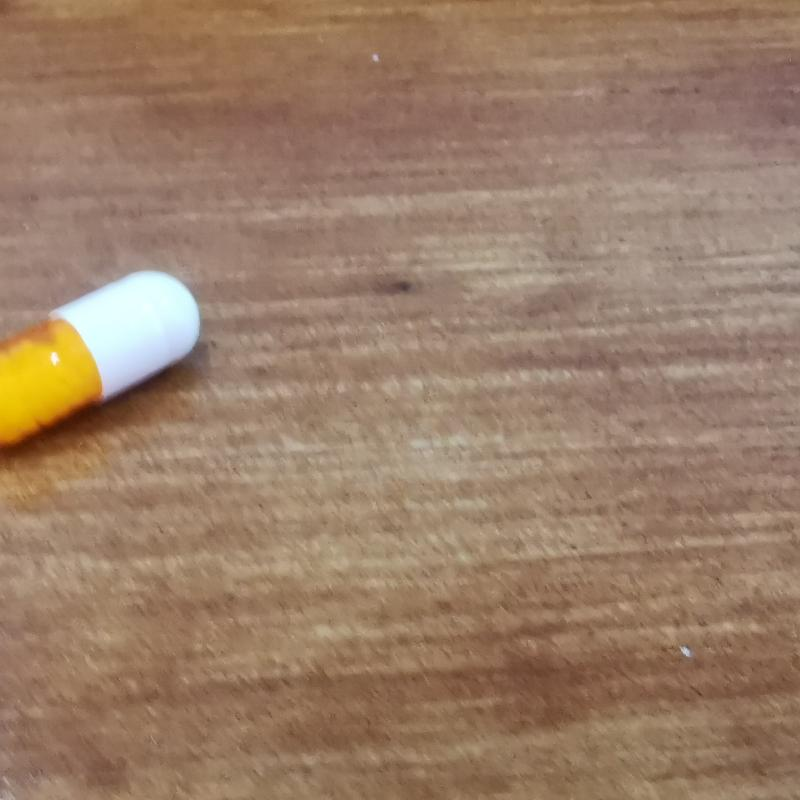pills: (0, 258, 203, 462)
